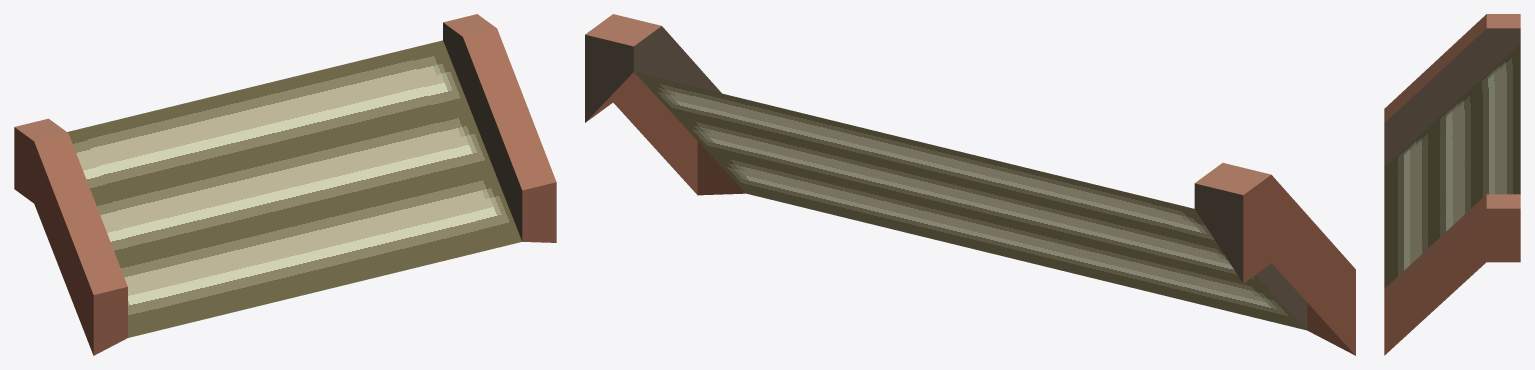
Rendered from stairs.obj.
3 renders of one model, left to right at view 1: azimuth 30°, elevation 25°; view 2: azimuth 150°, elevation 25°; view 3: azimuth 270°, elevation 25°, orthographic. The views are drawn at different scales.
Visible parts, largest first — view 1: polygon10; view 2: polygon10; view 3: polygon10.
Boxes of the visible parts, x1,y1,x2,y2 form: polygon10: (14,14,556,355); polygon10: (585,14,1355,355); polygon10: (1384,14,1520,355).
Bounding box in the file's own units: 6.75 × 2.38 × 2.
